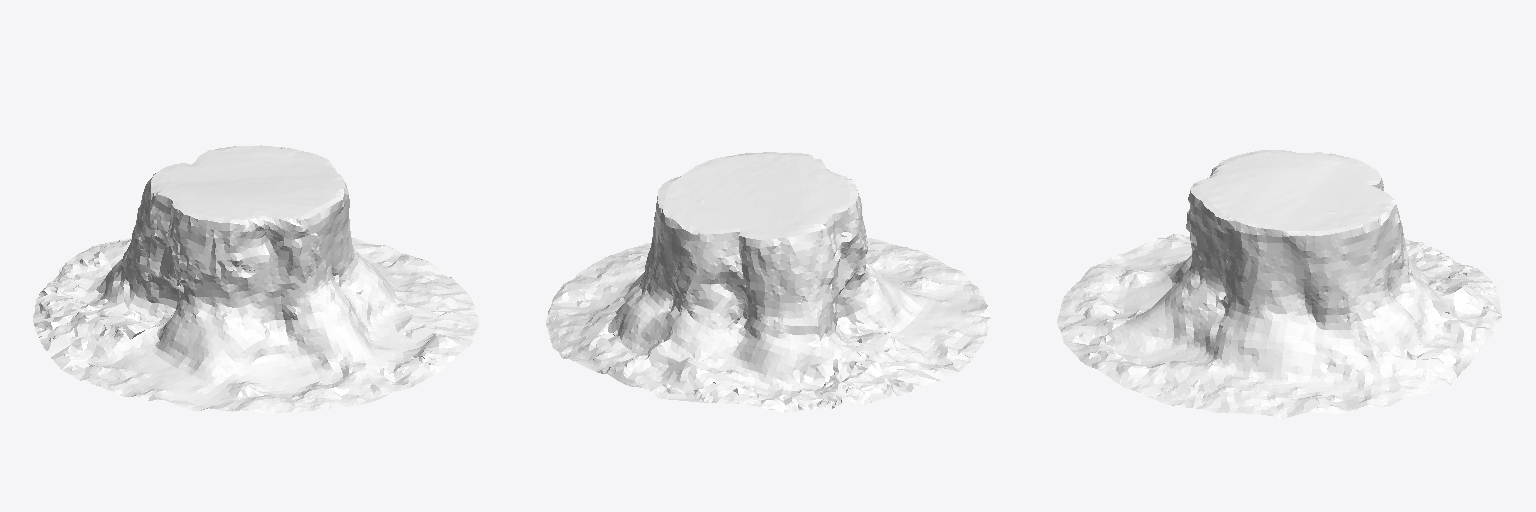
File: stump.obj
The picture shows the model from 3 angles: view 1: azimuth 30°, elevation 25°; view 2: azimuth 150°, elevation 25°; view 3: azimuth 270°, elevation 25°; orthographic projection.
Parts seen in each view (by area): view 1: Stump; view 2: Stump; view 3: Stump.
Boxes of the visible parts, <box> form: Stump: <box>33,145,478,413</box>; Stump: <box>546,152,990,412</box>; Stump: <box>1057,150,1501,418</box>.
Bounding box in the file's own units: 1.99 × 0.6837 × 2.